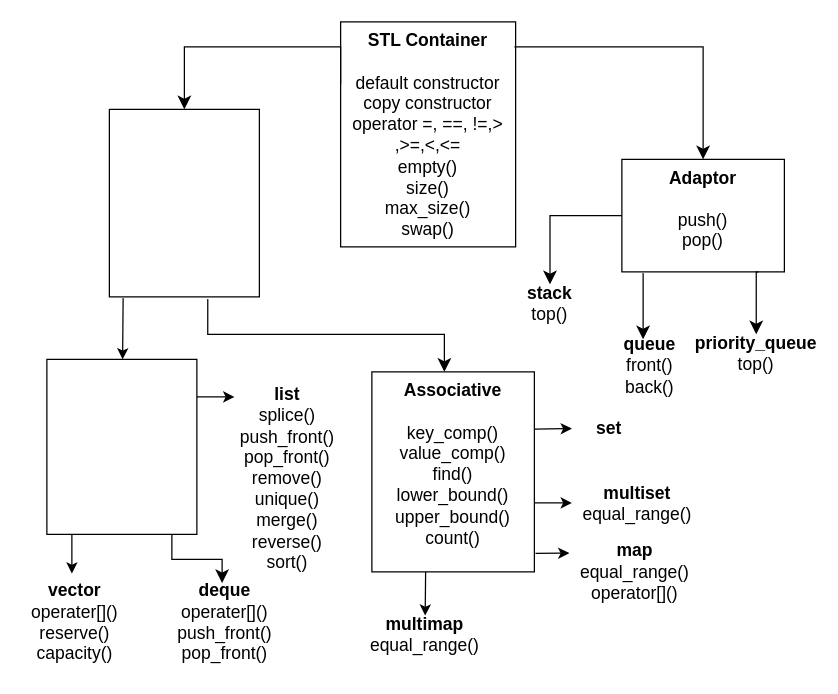
This 838x694 diagram has some shape labels left out. The box of each missing label's shape, as (x1, y1, x2, y2) in pixels:
First-class Container begin(), end() rbegin(),rend() insert() erase() clear(): (108, 108, 259, 297)
Sequenced front(), back() push_back() pop_back() resize(): (46, 358, 197, 534)
